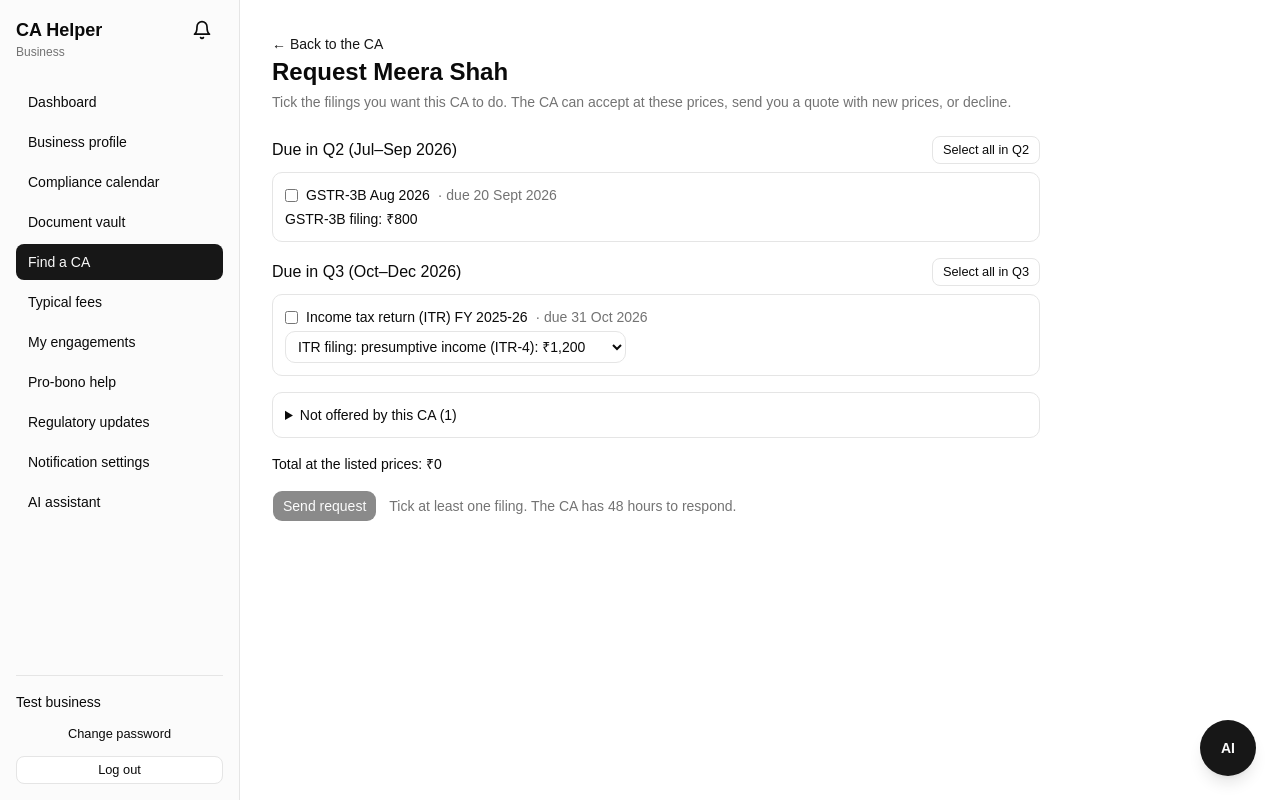
it: Request this CA page › sends the ticked filings with the chosen services
The image size is (1280, 800).
Click the checkbox labelled "GSTR-3B Aug 2026 · due 20 Sept 2026".
click(292, 195)  # box 285,188 -> 298,202
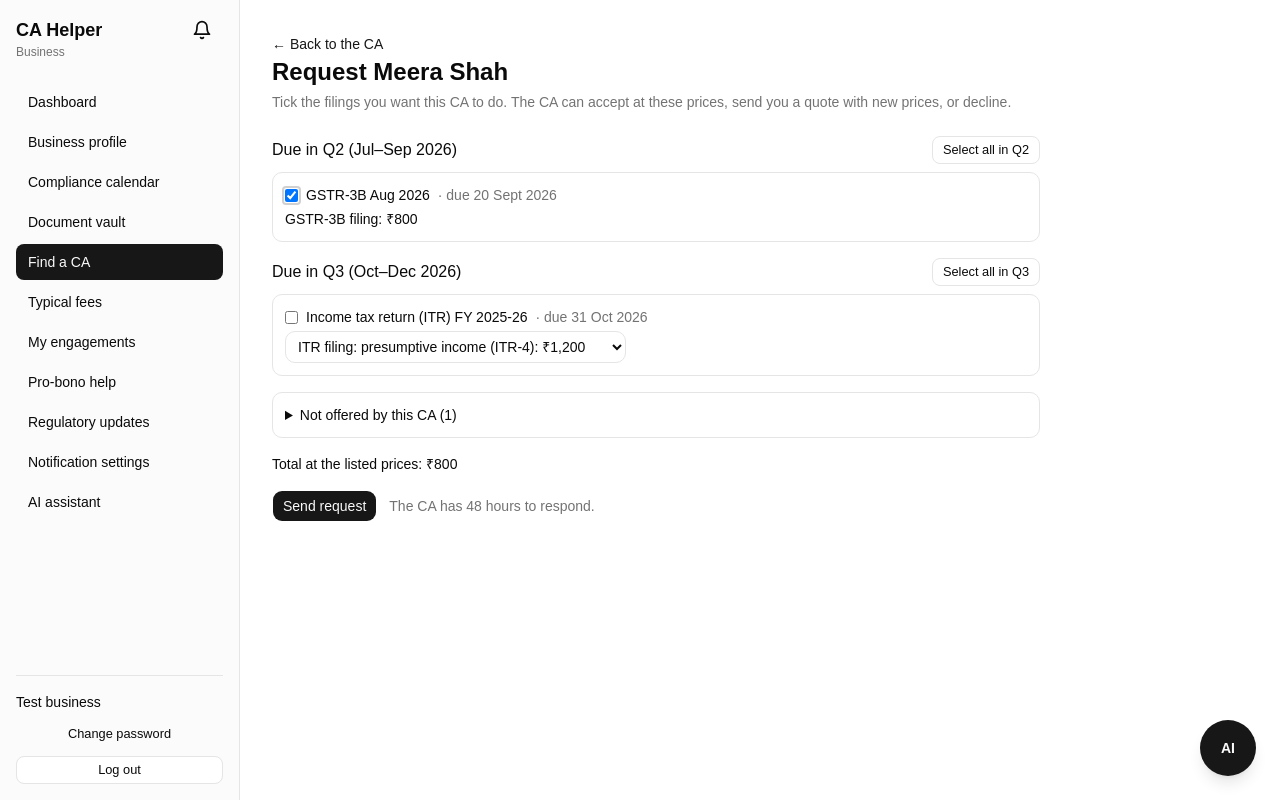
Click the checkbox labelled "Income tax return (ITR) FY 2025-26 · due 31 Oct 2026".
click(292, 317)  # box 285,310 -> 298,324
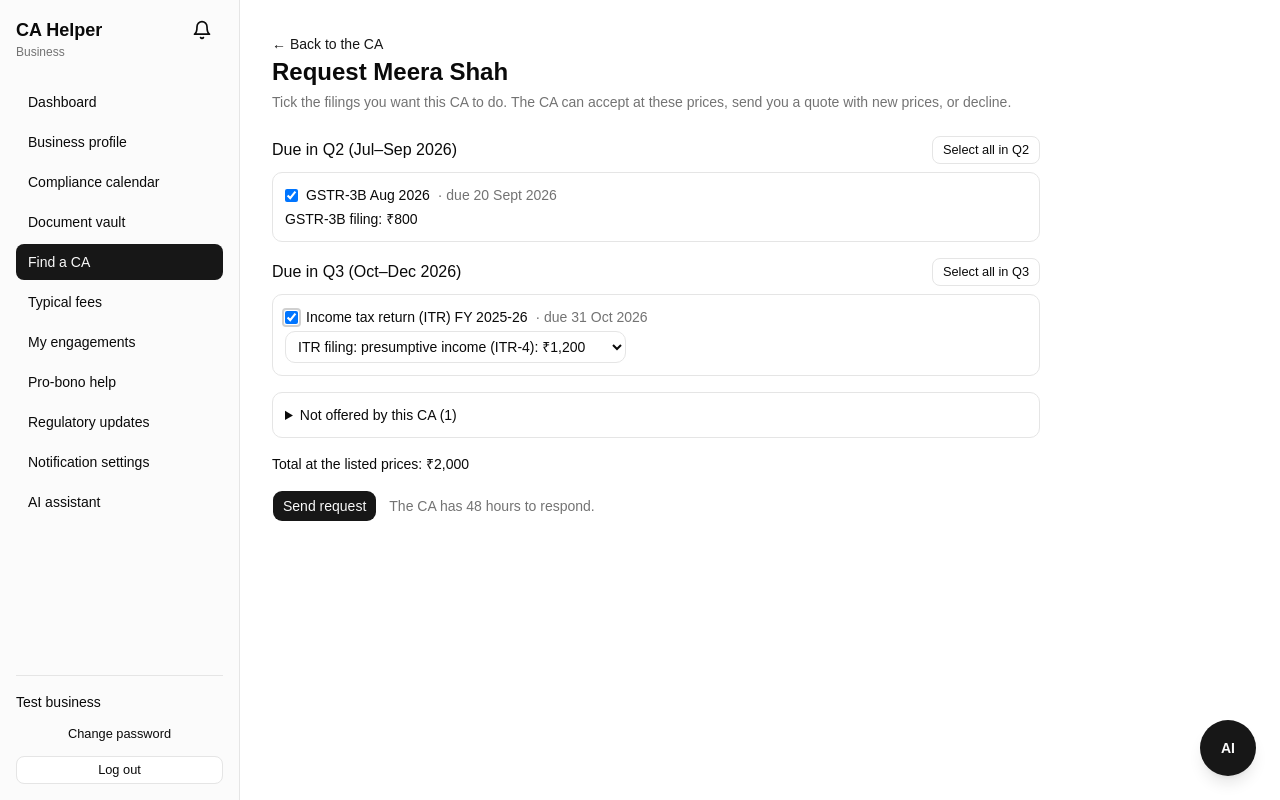
Select "ITR filing: business or profession (ITR-3): ₹2,500" in the dropdown named "Service for FY 2025-26" at [456, 347], box 285,331 -> 626,363
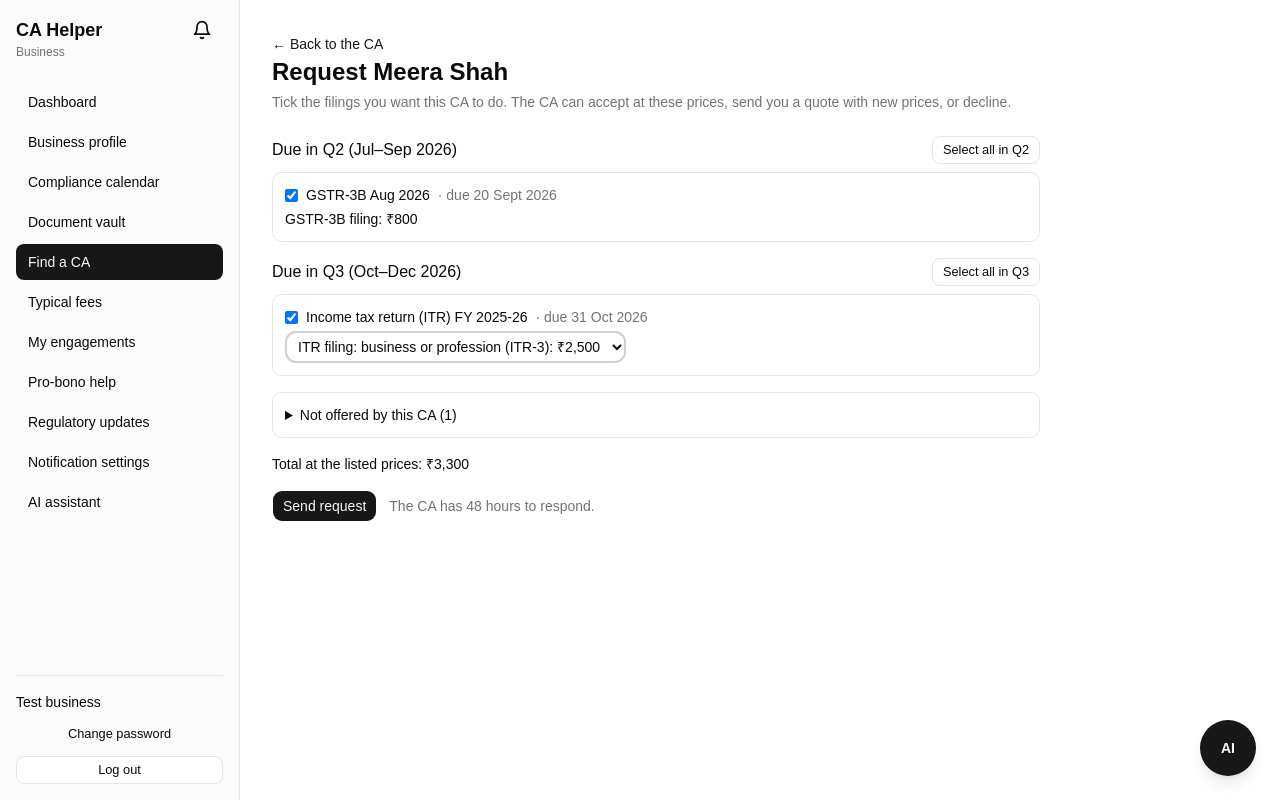
Result: the text "Total at the listed prices: ₹3,300" is shown at 272,456 -> 469,472
Click the button "Send request".
click(325, 506)  # box 272,490 -> 377,522
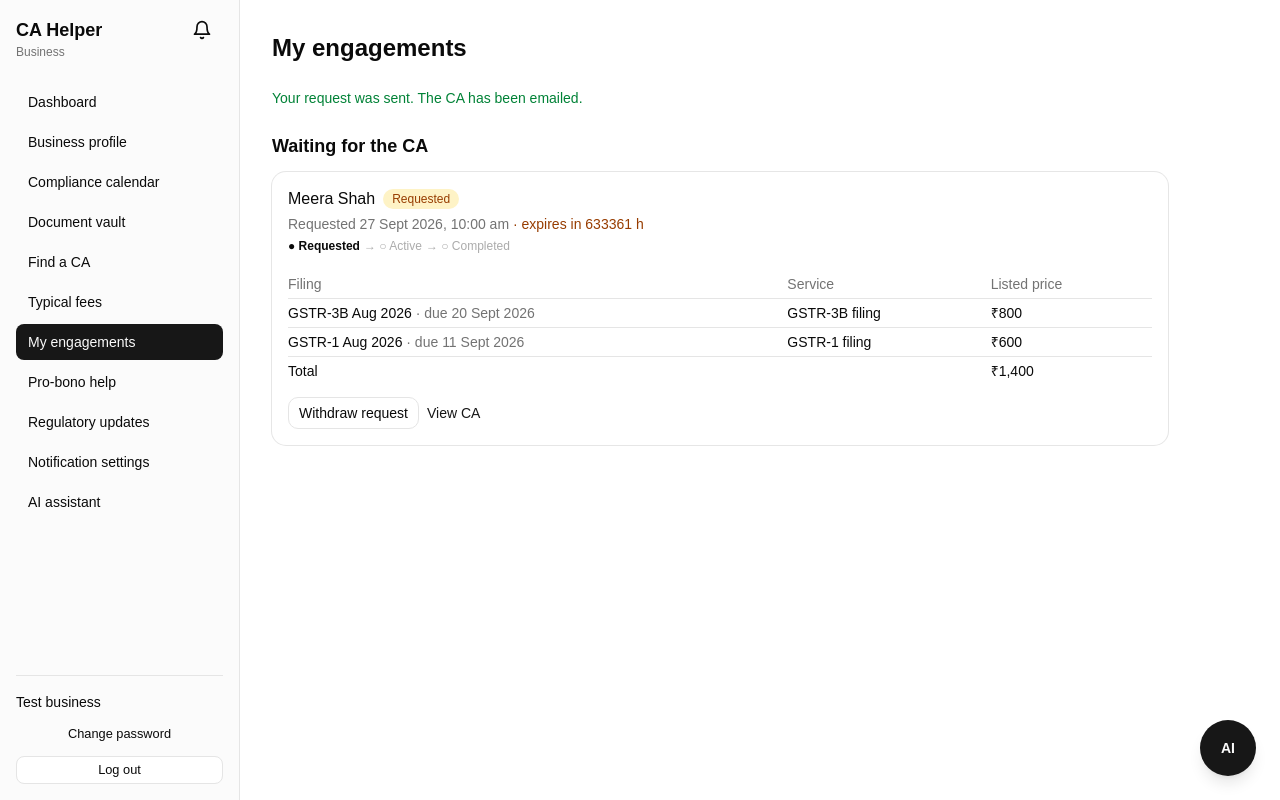
Result: the text "Your request was sent. The CA has been emailed." is shown at 272,90 -> 582,106
